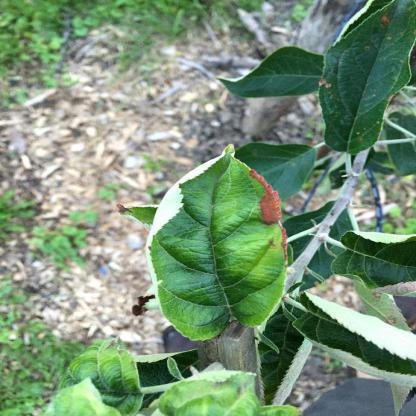Apple leaf: (133, 144, 306, 339)
